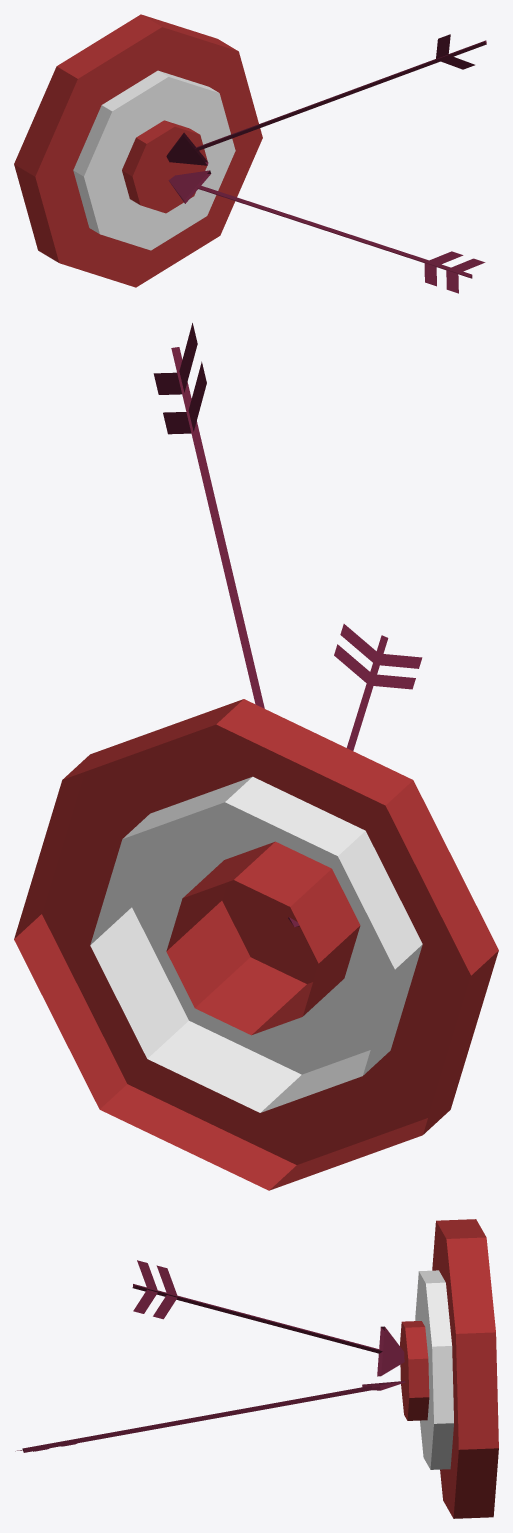
File: TARGET.fbx
3 views of the same model, one above another, from view 1: azimuth 30°, elevation 25°; view 2: azimuth 150°, elevation 25°; view 3: azimuth 270°, elevation 25° (orthographic). The views are drawn at different scales.
Visible parts, largest first — view 1: TARGET_1; view 2: TARGET_1; view 3: TARGET_1.
Part boxes in pixels (x1=…): TARGET_1: x1=14, y1=14, x2=486, y2=293; TARGET_1: x1=14, y1=323, x2=498, y2=1190; TARGET_1: x1=15, y1=1219, x2=498, y2=1518.
Bounding box in the file's own units: 103 × 94.61 × 120.
1 material, 1 textured.
